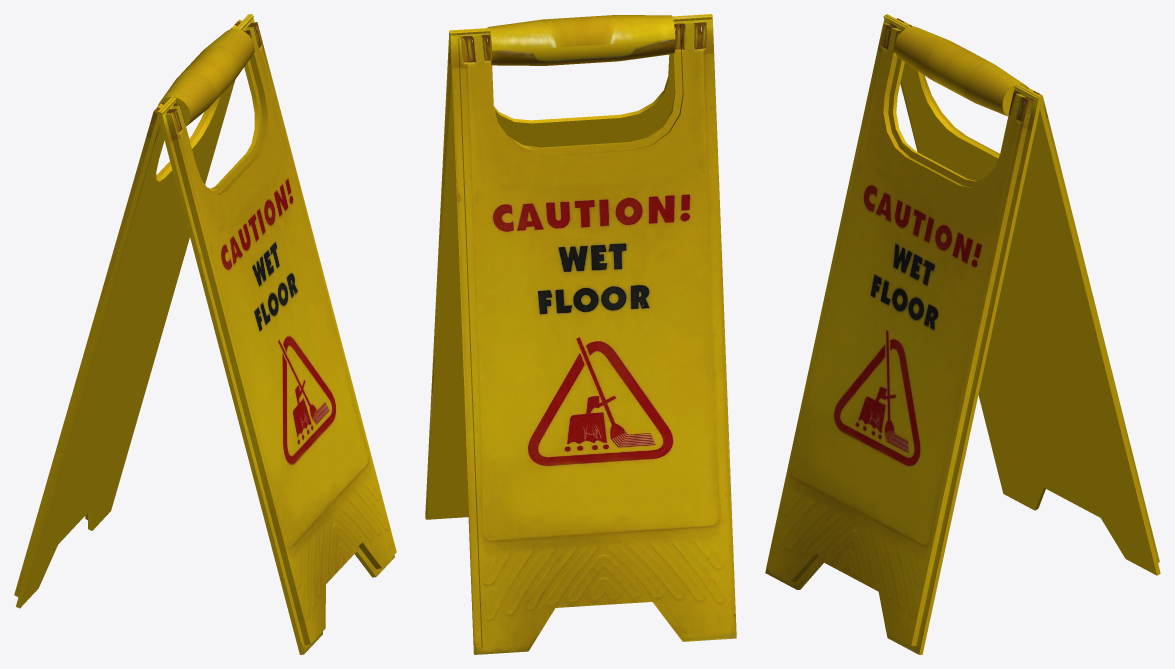
Rendered from uploads_files_4716651_coution_wet(1).fbx.
3 views of the same model, side by side, from view 1: azimuth 30°, elevation 25°; view 2: azimuth 150°, elevation 25°; view 3: azimuth 270°, elevation 25° (orthographic). The views are drawn at different scales.
Parts seen in each view (by area): view 1: Plane, Plane.001, Cylinder; view 2: Plane.001, Plane, Cylinder; view 3: Plane, Plane.001, Cylinder.
Part boxes in pixels (x1,y1,x2,y2): Plane: [157, 14, 396, 654]; Plane.001: [14, 14, 253, 608]; Cylinder: [157, 28, 254, 126]; Plane.001: [450, 14, 736, 654]; Plane: [425, 14, 712, 519]; Cylinder: [487, 15, 675, 65]; Plane: [765, 15, 1042, 654]; Plane.001: [883, 14, 1160, 575]; Cylinder: [895, 26, 1027, 116].
Bounding box in the file's own units: 123 × 183 × 125.
